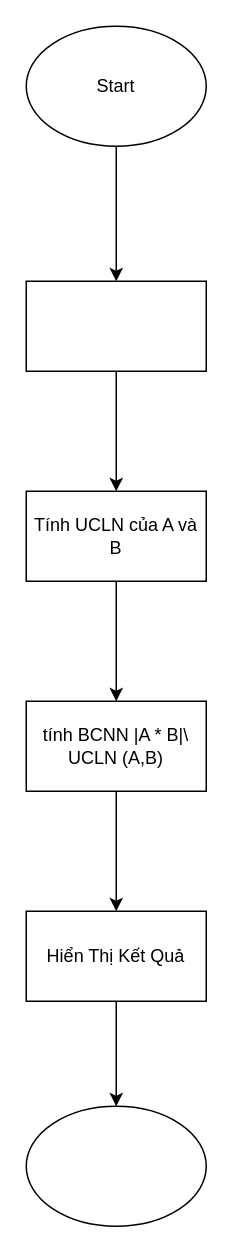
Some shapes in this 233 by 1253 pixel diagram are drawn without their labels. The box of each missing label's shape, as (x1, y1, x2, y2) in pixels:
End: (25, 1105, 206, 1226)
Nhập Hai Số A và B: (25, 280, 206, 371)
